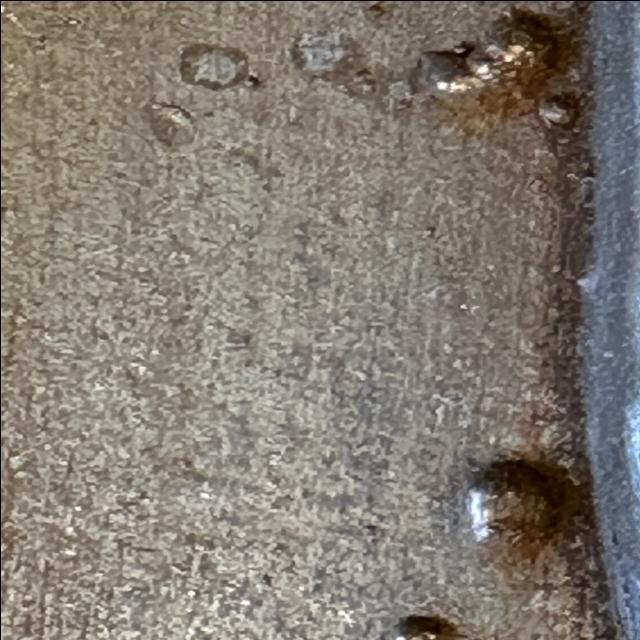Spatters: (465, 460, 557, 540), (463, 12, 552, 81), (412, 49, 500, 92), (395, 615, 457, 640), (538, 95, 577, 126)
